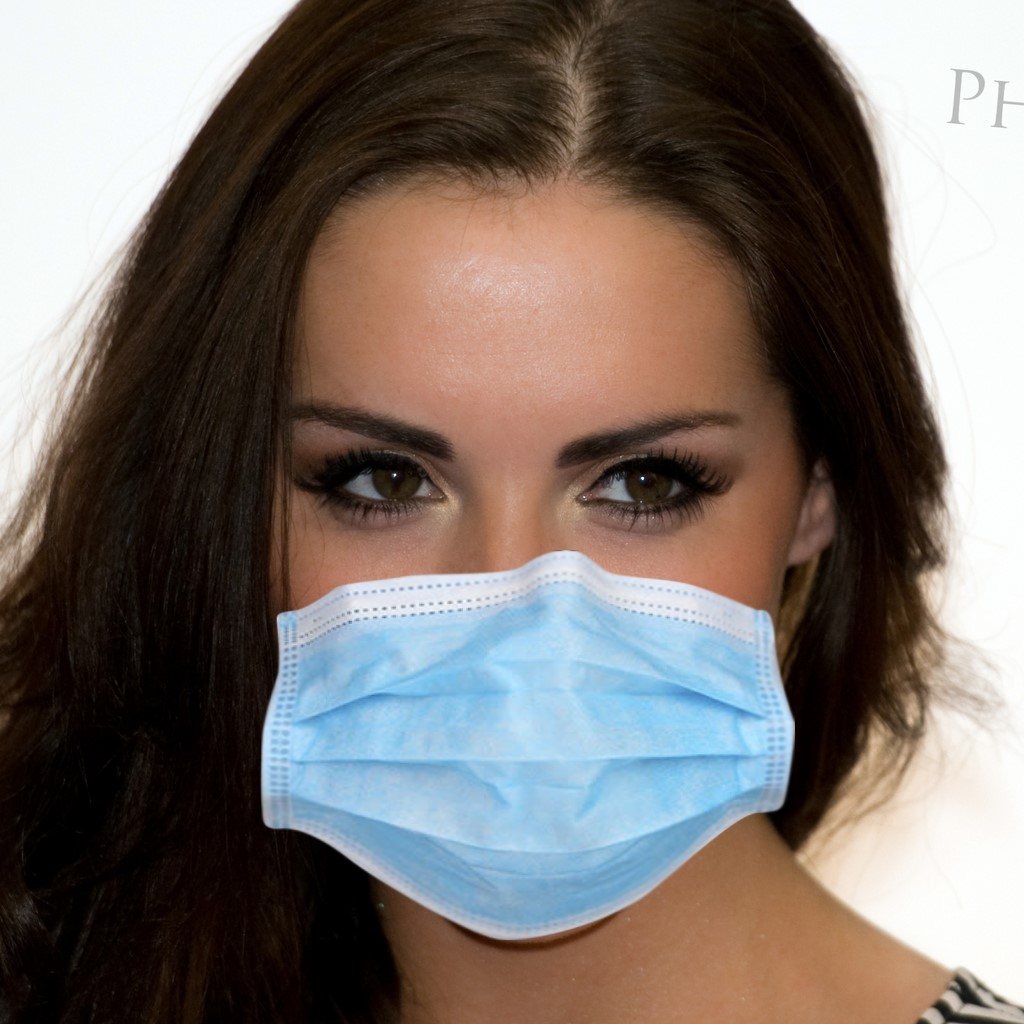con_mascara: (228, 116, 811, 957)
